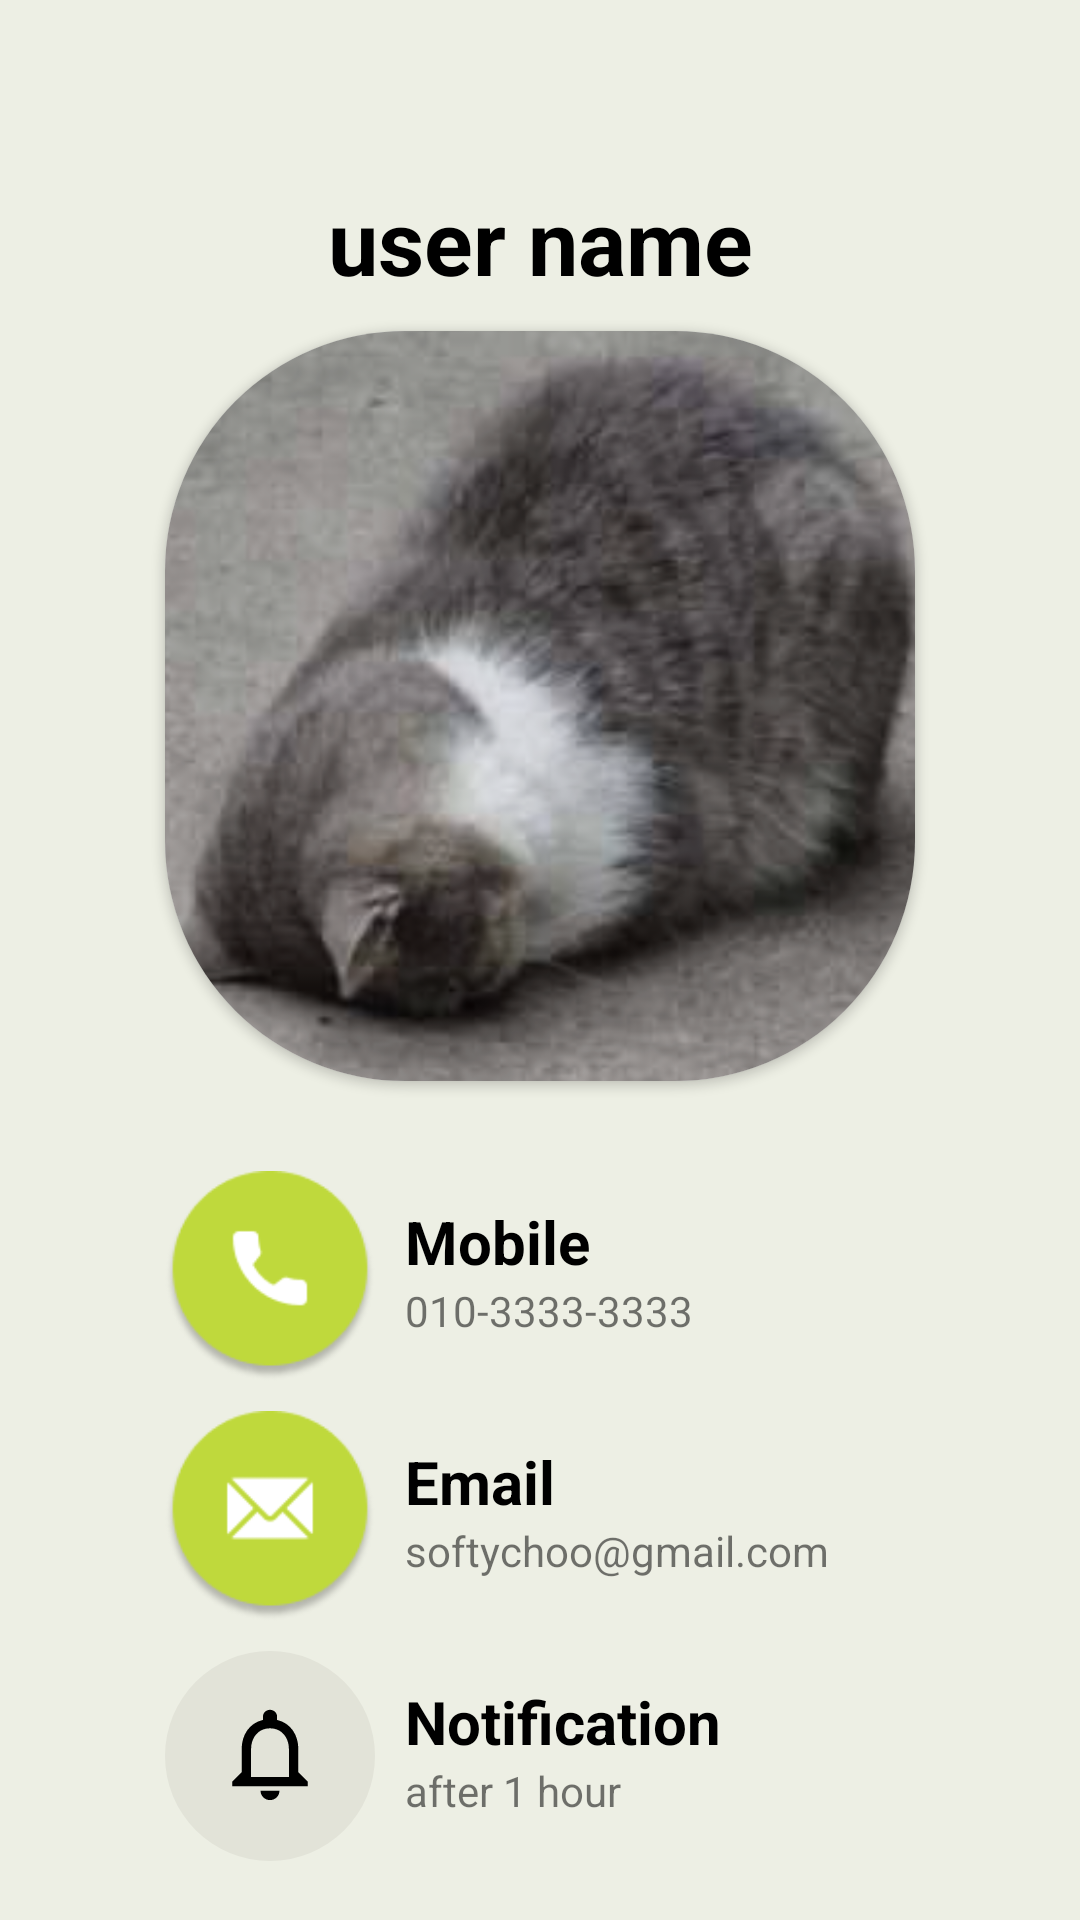

Locate icon controls on the screen. Image size 1080x1920, boxes as (x1, y1, x2, y2).
call: (172, 1171, 368, 1374)
message: (172, 1411, 368, 1614)
